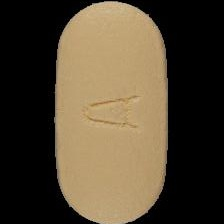33261-073: (0, 0, 224, 224)
